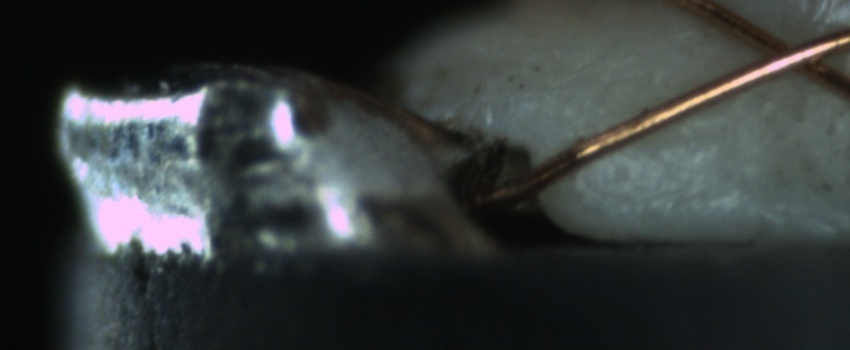CL: (739, 21, 846, 88)
DL: (627, 111, 721, 168)
